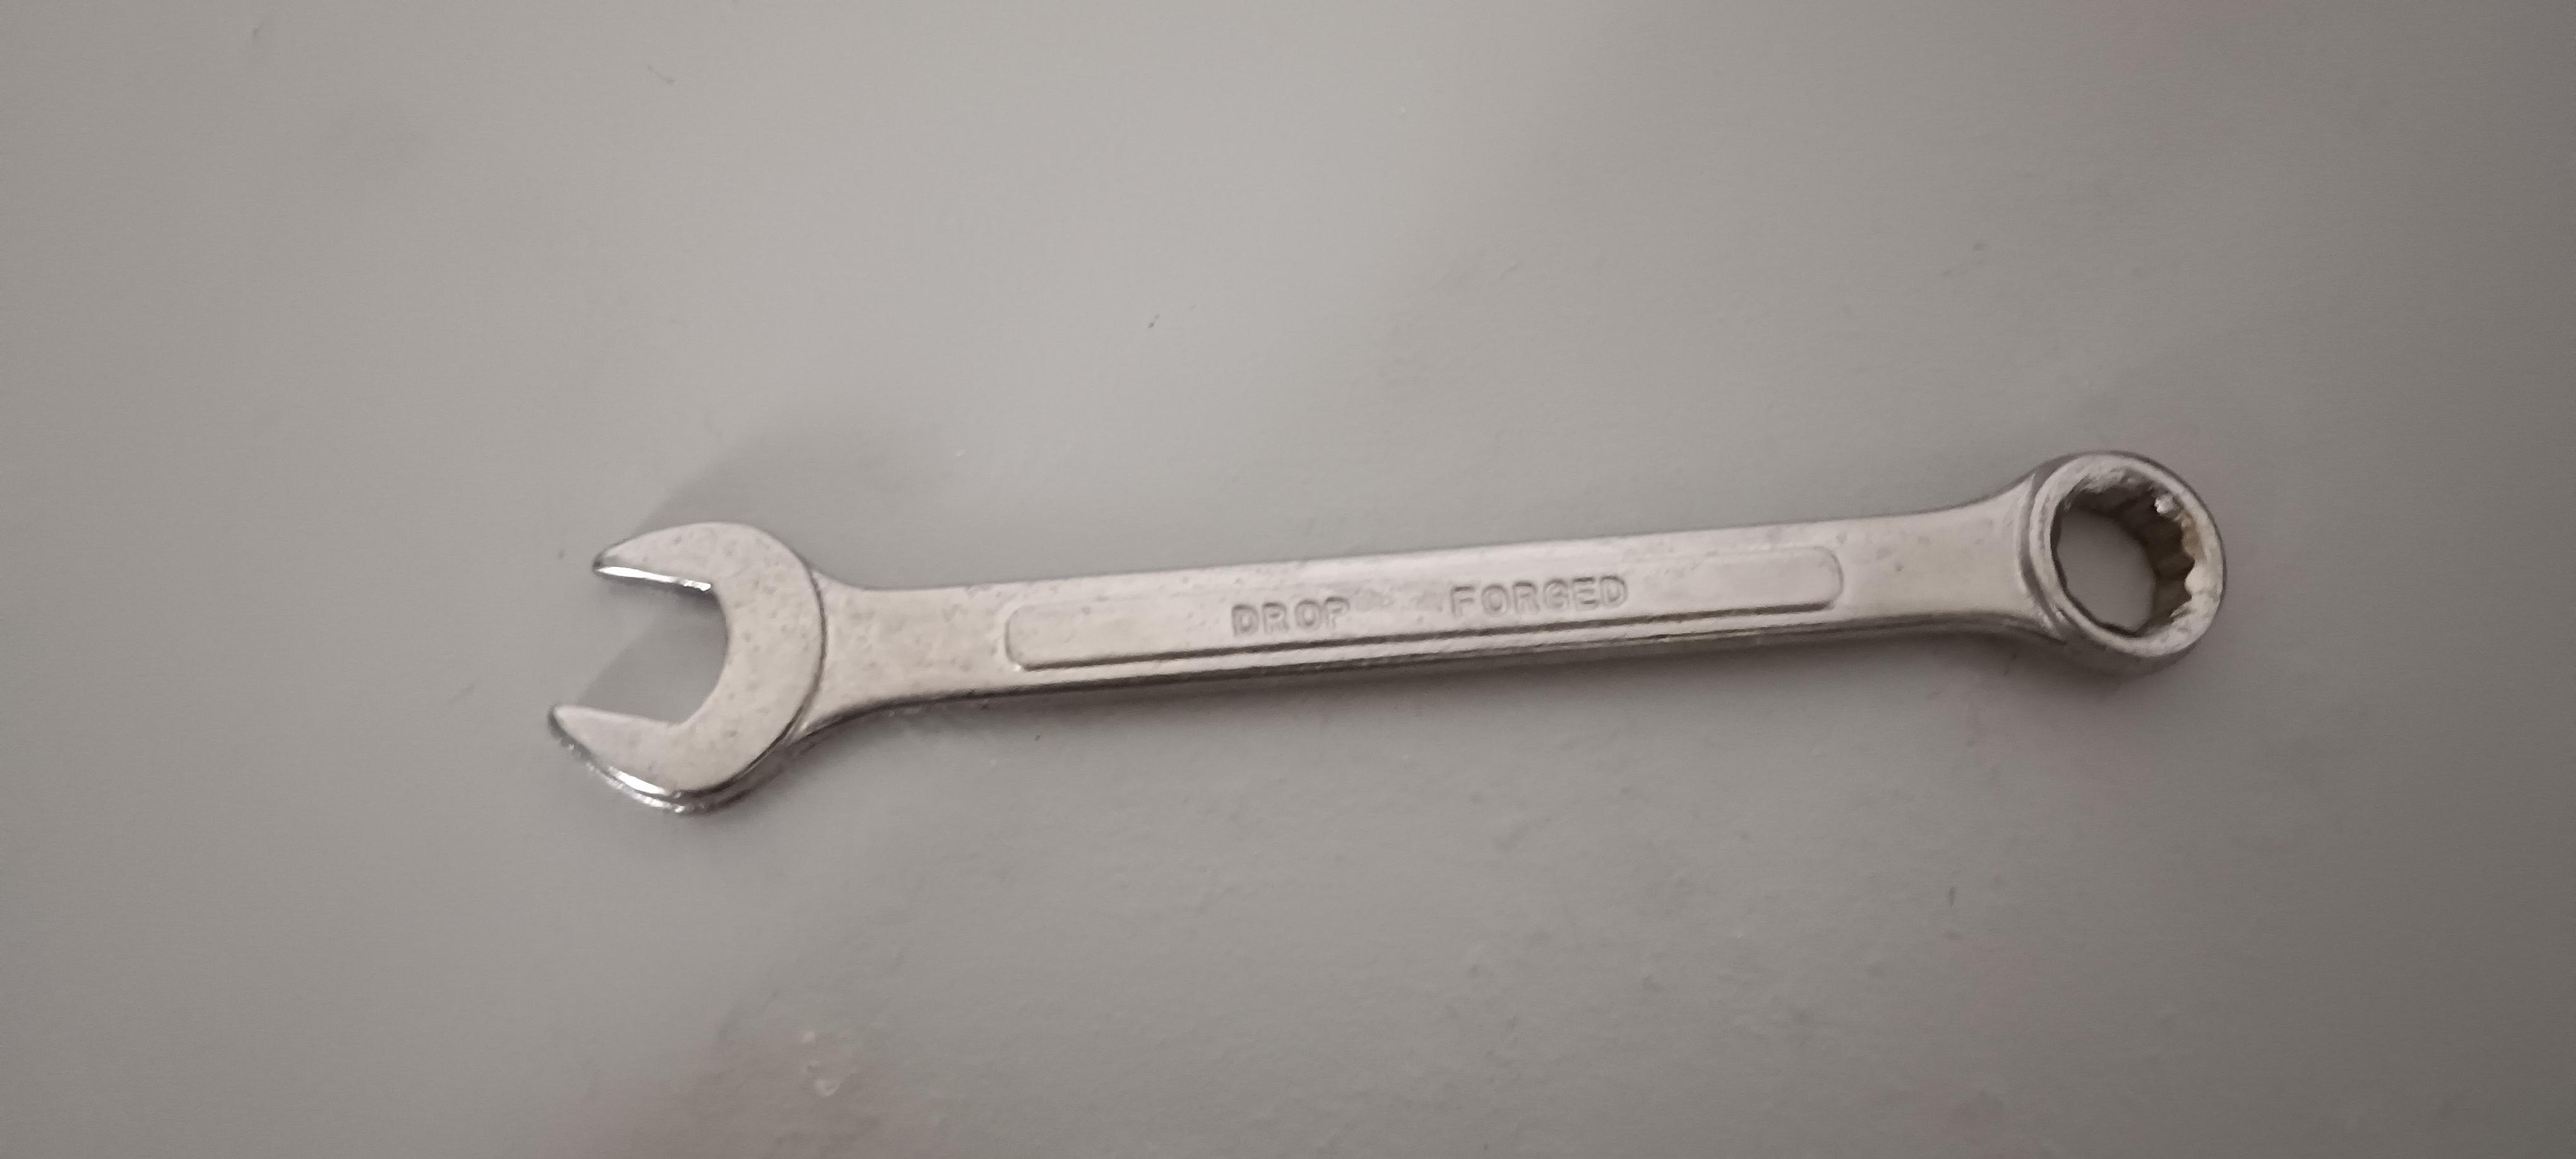Spanners: (521, 386, 2254, 845)
